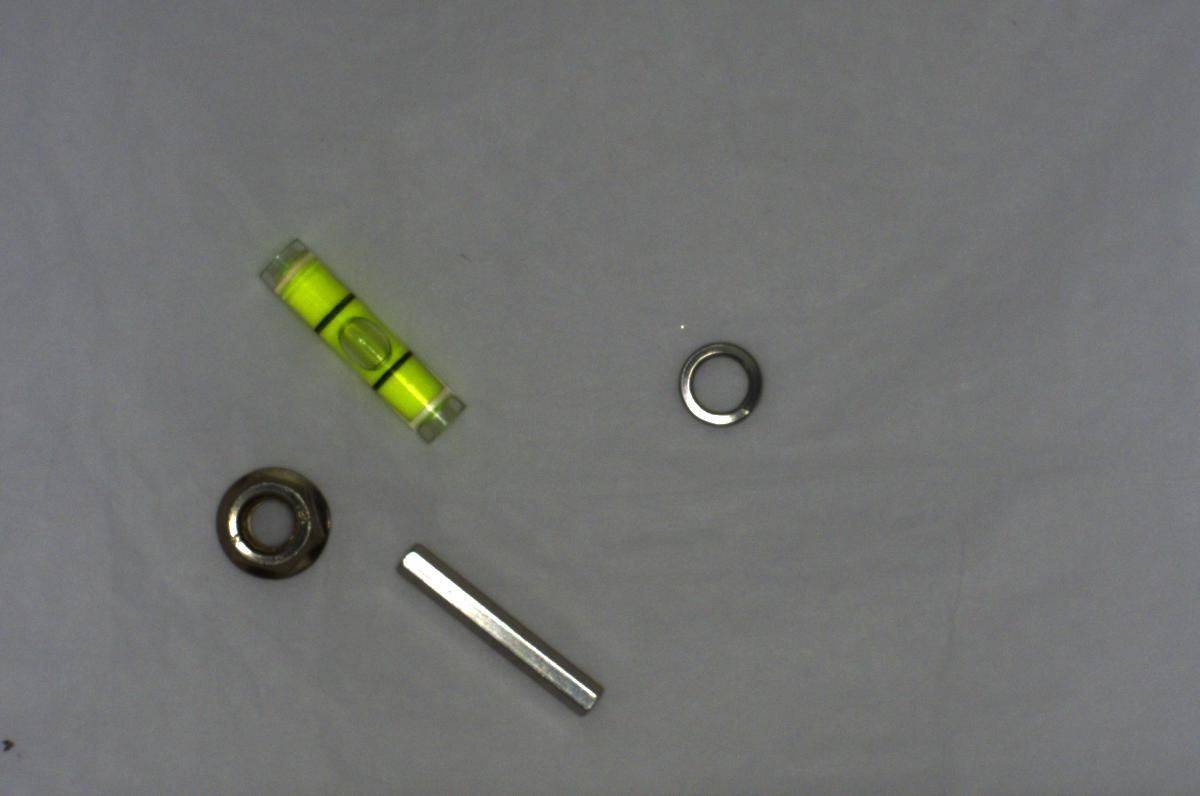Double hexagonal column: (386, 543, 611, 718)
Flange nut: (204, 458, 346, 600)
Horizontal bubble: (258, 233, 466, 446)
Spring washer: (670, 330, 771, 429)
